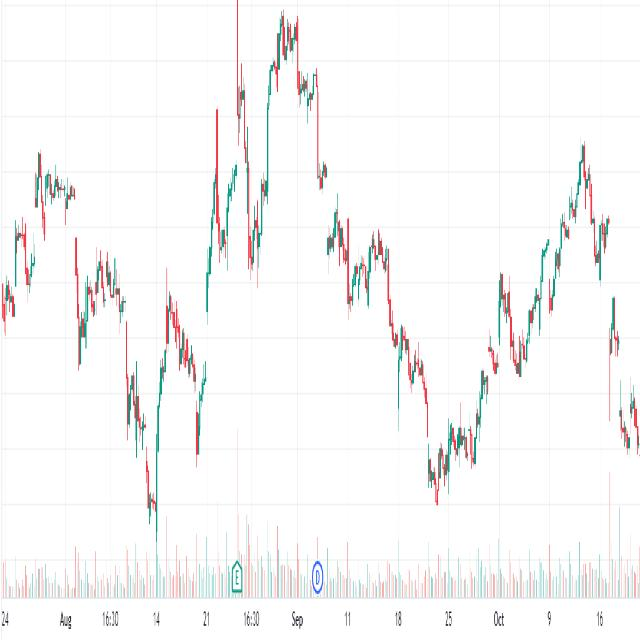Head-Shoulders: (260, 11, 322, 172)
Inverse-Head-Shoulders: (72, 228, 213, 554)
